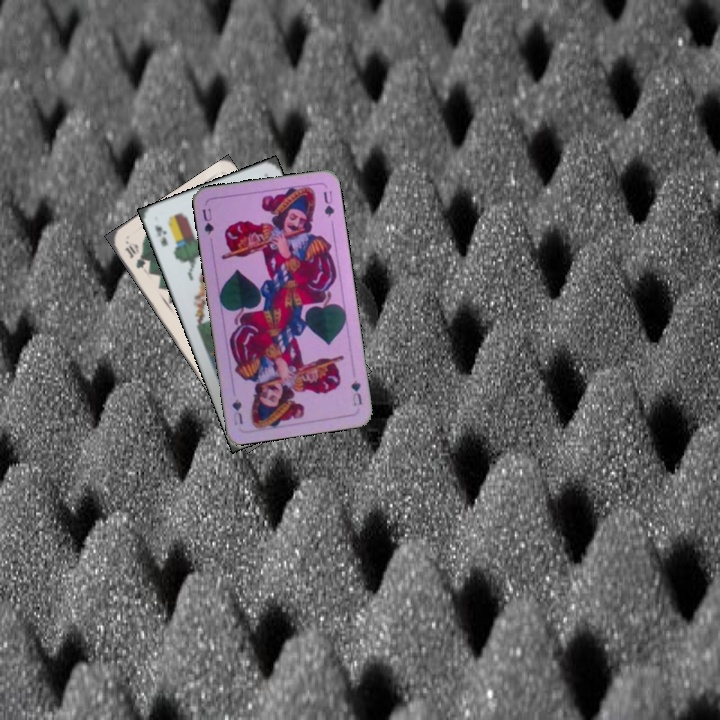EK: (151, 221, 170, 249)
G10: (121, 241, 148, 271)
GU: (198, 204, 216, 237), (347, 376, 364, 408)
